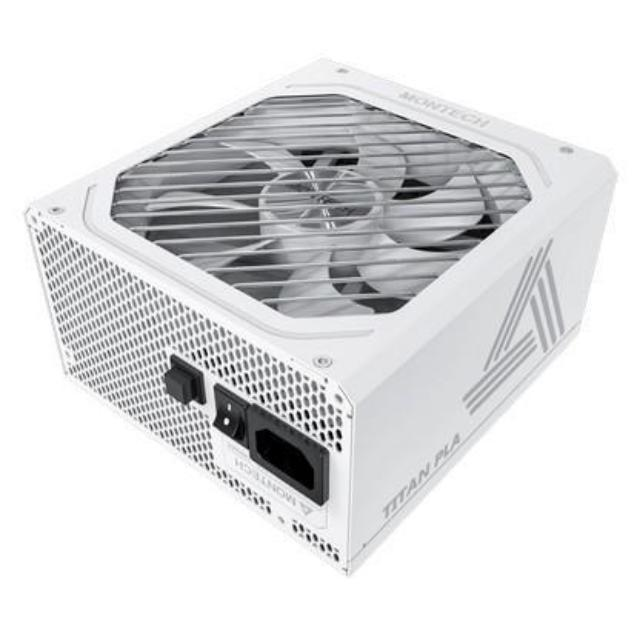PSU: (14, 43, 628, 583)
